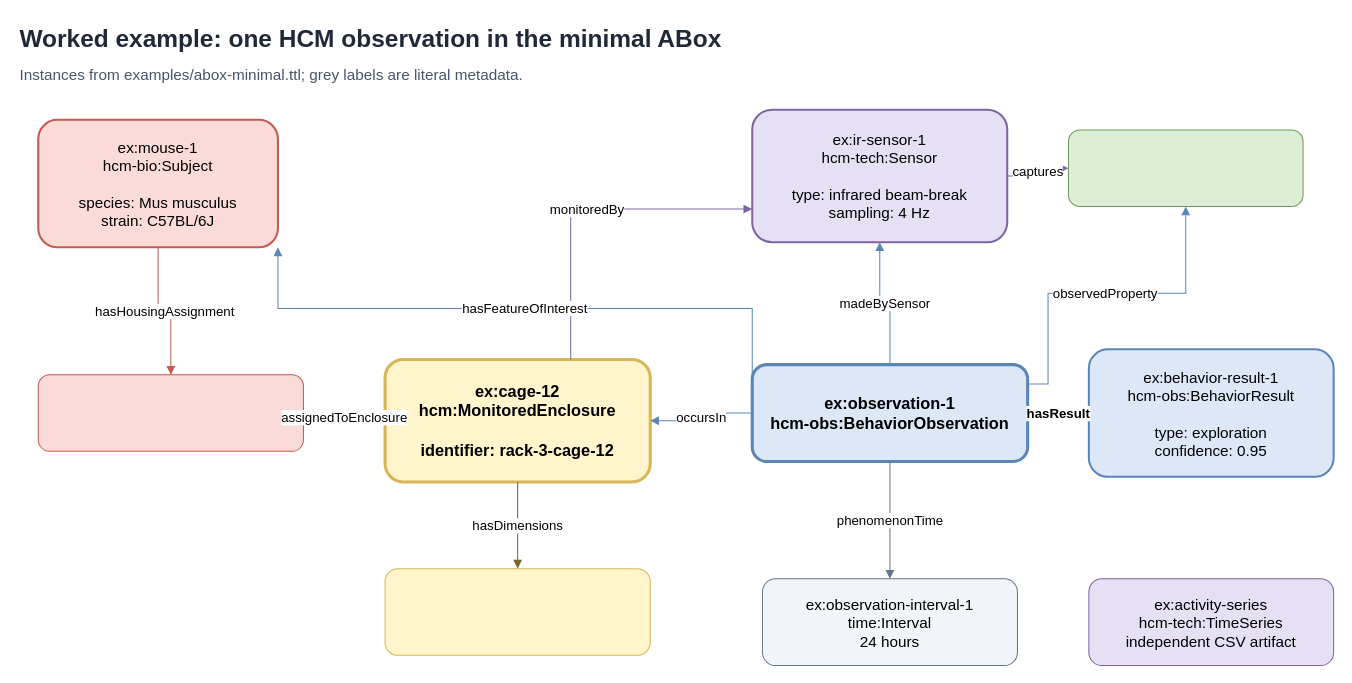
The diagram is 1352 pixels wide and 683 high, and some of its shapes have lost their labels. The shapes that lost their labels are listed below. From the top down, each one's centre as x and y in pixels, then its label:
At point (1185, 168): "ex:locomotor-activity sosa:Property".
At point (170, 412): "ex:mouse-1-cage-12-assignment hcm-bio:HousingAssignment".
At point (517, 611): "ex:cage-12-dimensions hcm:EnclosureDimensions 30 x 45 x 20 cm".
